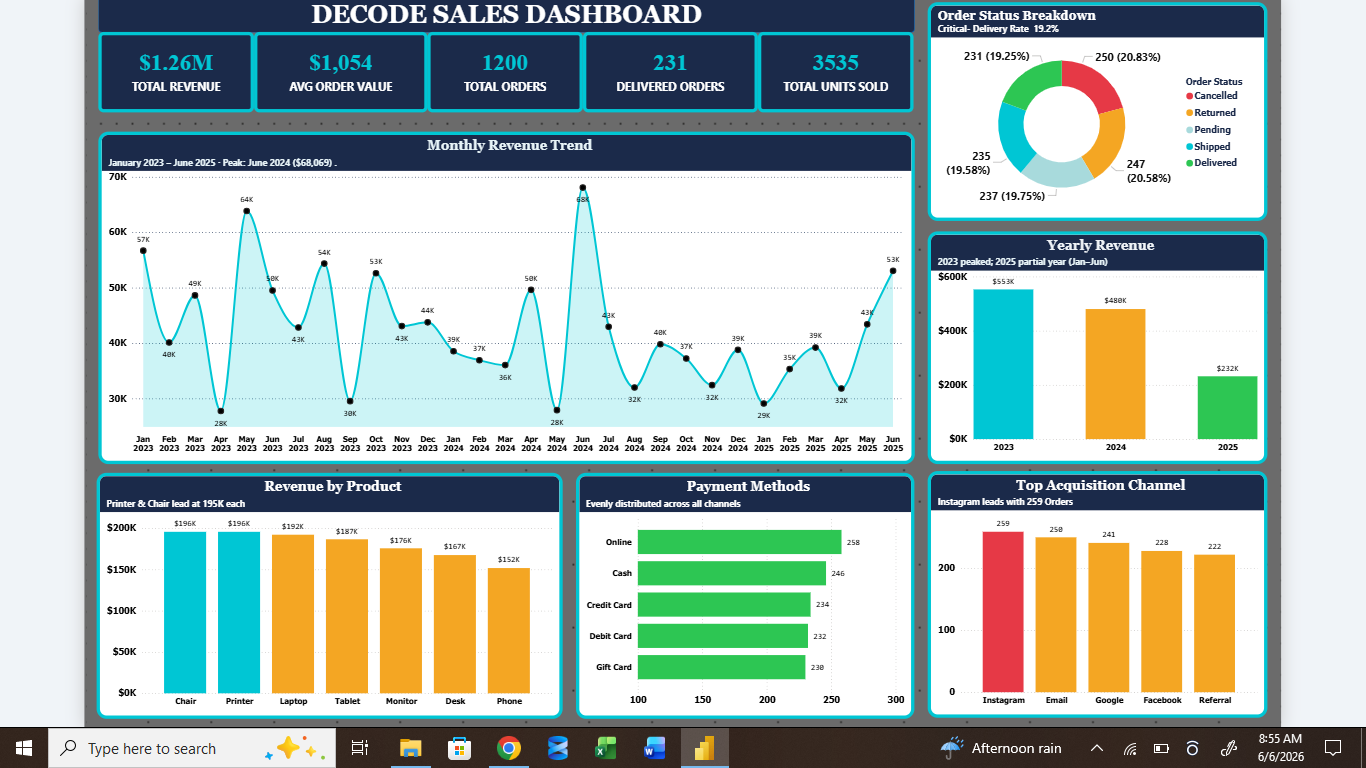

This screenshot's page, from the dashboard's own definition file:
{"tool":"powerbi","page":{"name":"Decode Sales Dashboard","canvas":[1800,1100],"ordinal":0},"visuals":[{"type":"shape","box":[20.1,0,1227.9,53.6],"z":0},{"type":"cardVisual","fields":{"Data":["Sum(Yearly Revenue Table.Column2)"]},"box":[20.1,53.6,234.4,120.6],"z":1000},{"type":"cardVisual","fields":{"Data":["Avg(Sales Data.Total Price)"]},"box":[254.5,53.6,261.2,120.6],"z":2000},{"type":"cardVisual","fields":{"Data":["Count(Sales Data.Order ID)"]},"box":[515.7,53.6,234.4,120.6],"z":3000},{"type":"cardVisual","title":"dde","fields":{"Data":["EDA Summary.Delivered Orders"]},"box":[750.1,53.6,263.4,120.6],"z":4000},{"type":"donutChart","title":"Order Status Breakdown","fields":{"Category":["Table 4 (Pivot Tables).Order Status"],"Y":["CountNonNull(Sales Data.Order Status)"]},"box":[1267.2,7.2,511.2,328.8],"z":5000},{"type":"clusteredBarChart","title":"Payment Methods","fields":{"Category":["Table 8 (Pivot Tables).Payment Method"],"Y":["Sum(Table 8 (Pivot Tables).Count)"]},"box":[739.2,715.2,508.8,369.6],"z":6000},{"type":"columnChart","title":"Revenue by Product","fields":{"Category":["Table 3 (Pivot Tables).Product"],"Y":["Sum(Table 3 (Pivot Tables).Total Revenue)"]},"box":[19.2,715.2,700.8,369.6],"z":7000},{"type":"columnChart","title":"Top Acquisition Channel","fields":{"Category":["Table 7 (Pivot Tables).Referral Source"],"Y":["Sum(Table 7 (Pivot Tables).Count)"]},"box":[1268.1,714.4,511.3,370.6],"z":8000},{"type":"areaChart","title":"Monthly Revenue Trend","fields":{"Y":["Sum(Monthly Revenue.Total Revenue)"],"Category":["Monthly Revenue.Month Year"]},"box":[20.1,203.2,1227.9,500.1],"z":9000},{"type":"columnChart","title":"Yearly Revenue","fields":{"Category":["Yearly Revenue Table.Column1"],"Y":["Sum(Yearly Revenue Table.Column2)"]},"box":[1267.2,352.8,511.2,350.4],"z":10000},{"type":"cardVisual","title":"dde","fields":{"Data":["Sales Data.Total Units Sold"]},"box":[1013.6,53.6,234.4,120.6],"z":11000},{"type":"textbox","box":[20.1,0,1227.9,53.6],"z":12000}]}

Visuals, with their boxes in screenshot pixels (x1, y1, x2, y2):
shape: detection(95, 0, 911, 29)
cardVisual - Sum(Yearly Revenue Table.Column2): detection(95, 29, 251, 109)
cardVisual - Avg(Sales Data.Total Price): detection(251, 29, 424, 109)
cardVisual - Count(Sales Data.Order ID): detection(424, 29, 580, 109)
"dde" cardVisual: detection(580, 29, 755, 109)
"Order Status Breakdown" donutChart: detection(924, 0, 1263, 216)
"Payment Methods" clusteredBarChart: detection(573, 468, 911, 714)
"Revenue by Product" columnChart: detection(95, 468, 560, 714)
"Top Acquisition Channel" columnChart: detection(924, 468, 1264, 714)
"Monthly Revenue Trend" areaChart: detection(95, 128, 911, 460)
"Yearly Revenue" columnChart: detection(924, 227, 1263, 460)
"dde" cardVisual: detection(755, 29, 911, 109)
textbox: detection(95, 0, 911, 29)
